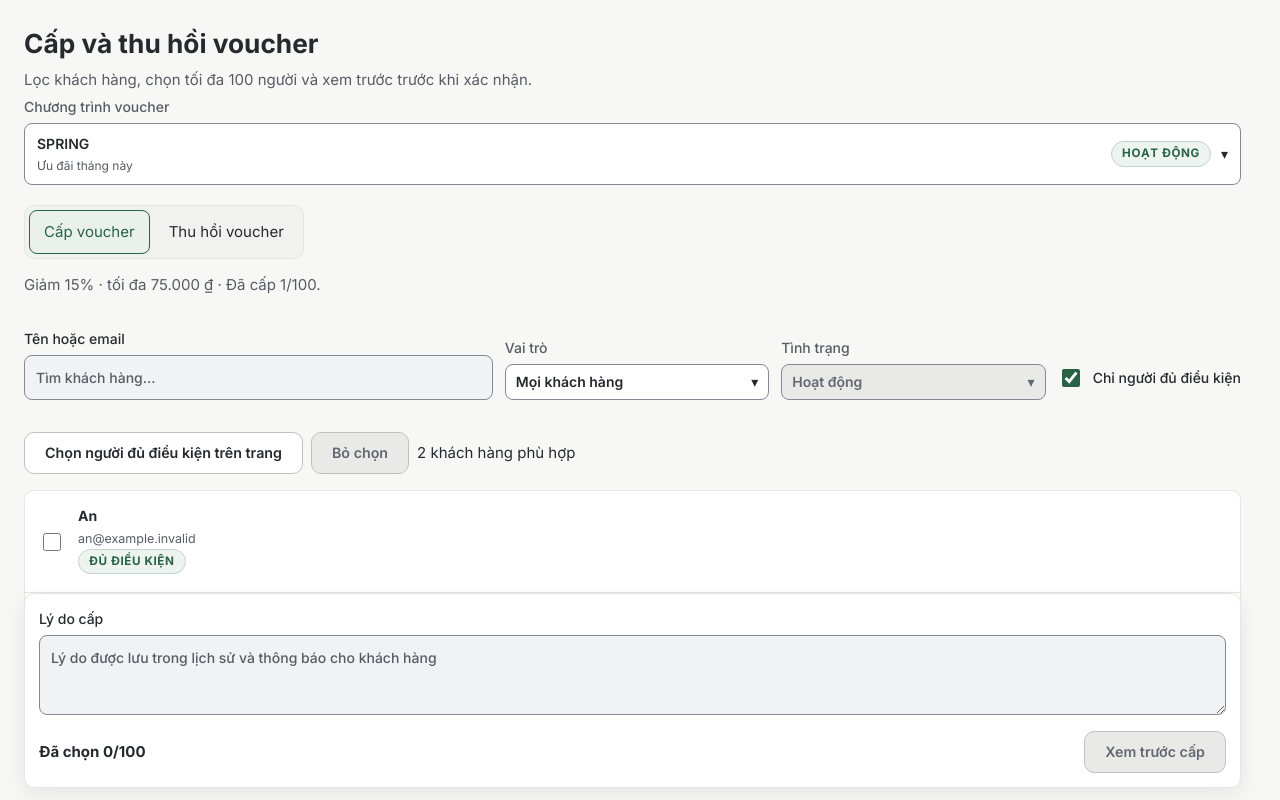
Test: KTV hàng loạt › retry xác nhận giữ command và payload ban đầu
Expected: the text "an@example.invalid" is shown, 78,531 -> 196,546
Click the checkbox named "Chọn An · an@example.invalid" at (52, 542), box 43,532 -> 61,550
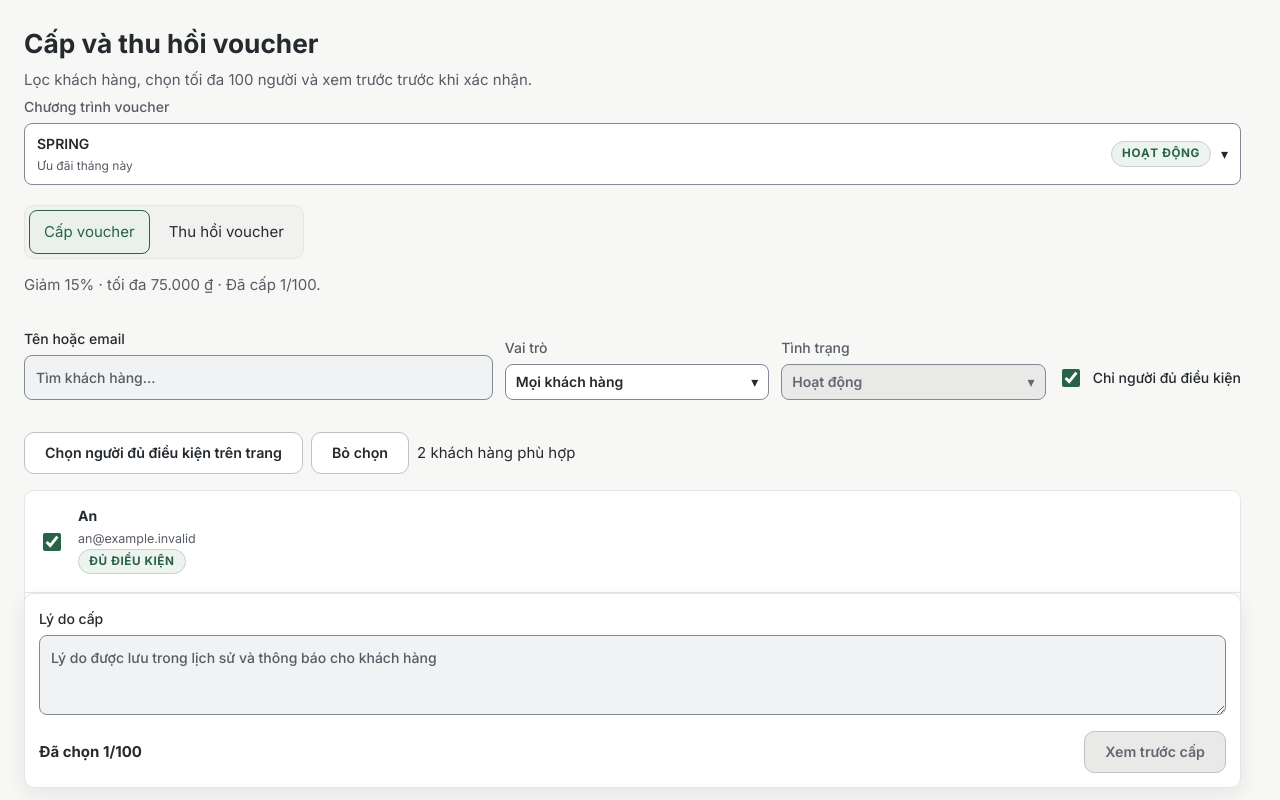
Type "QA" into the text box labelled "Lý do cấp" at (632, 675), box 39,635 -> 1226,715
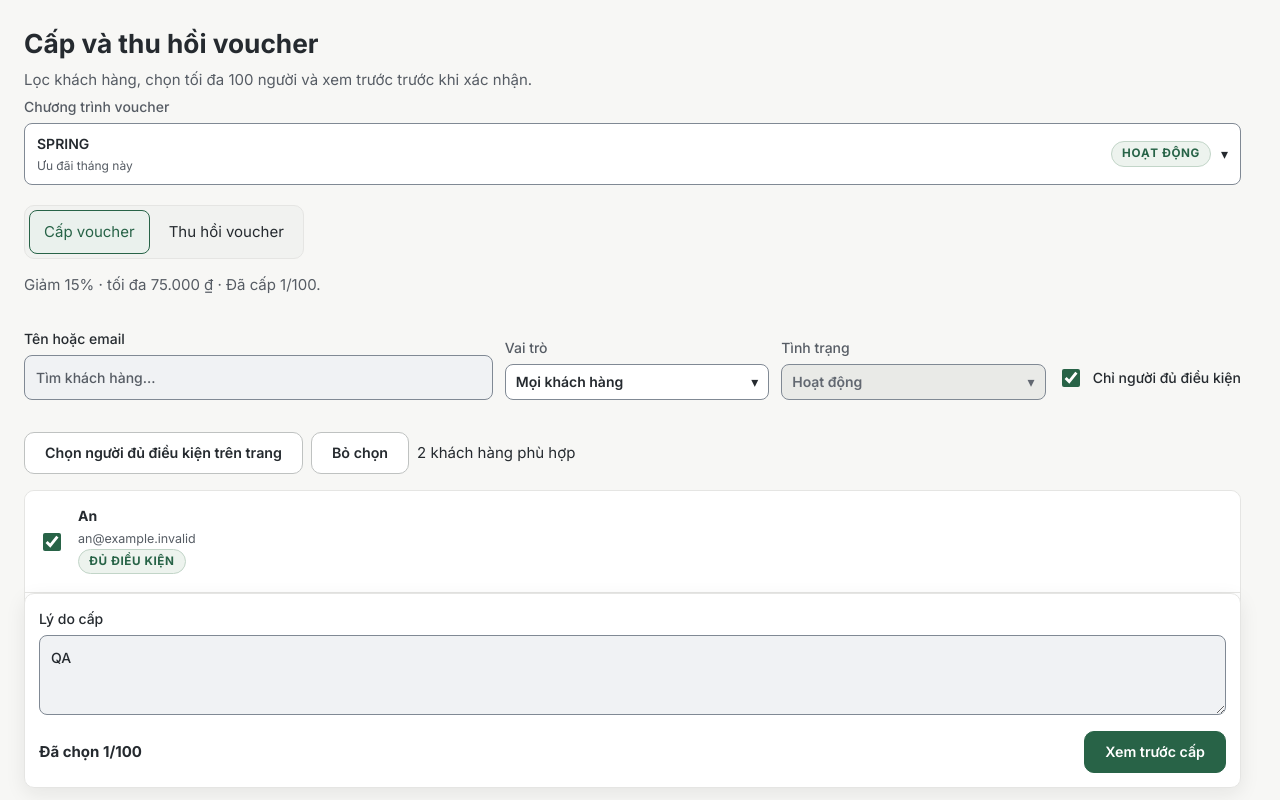
Click the button "Xem trước cấp" at (1155, 752), box 1084,731 -> 1226,773
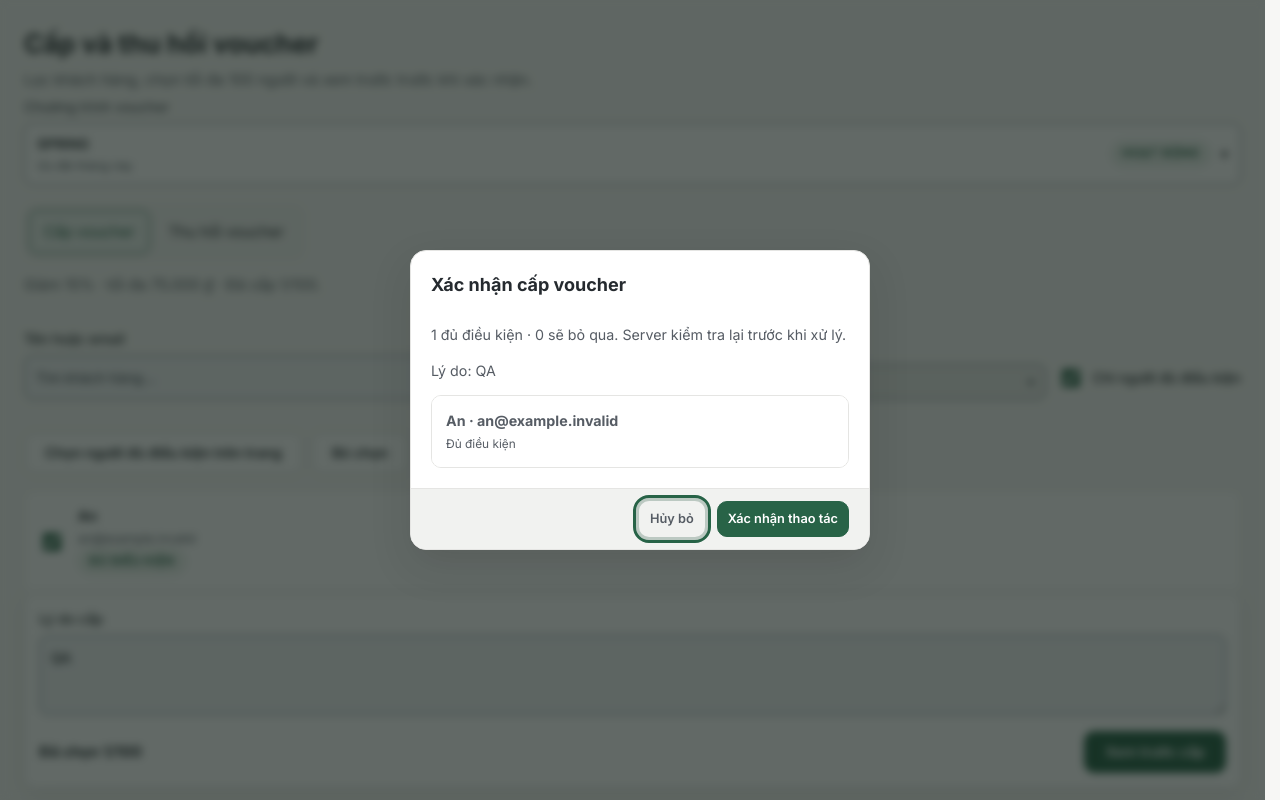
Expected: the dialog is shown
Click the button "Xác nhận thao tác" at (783, 519), box 717,501 -> 849,537
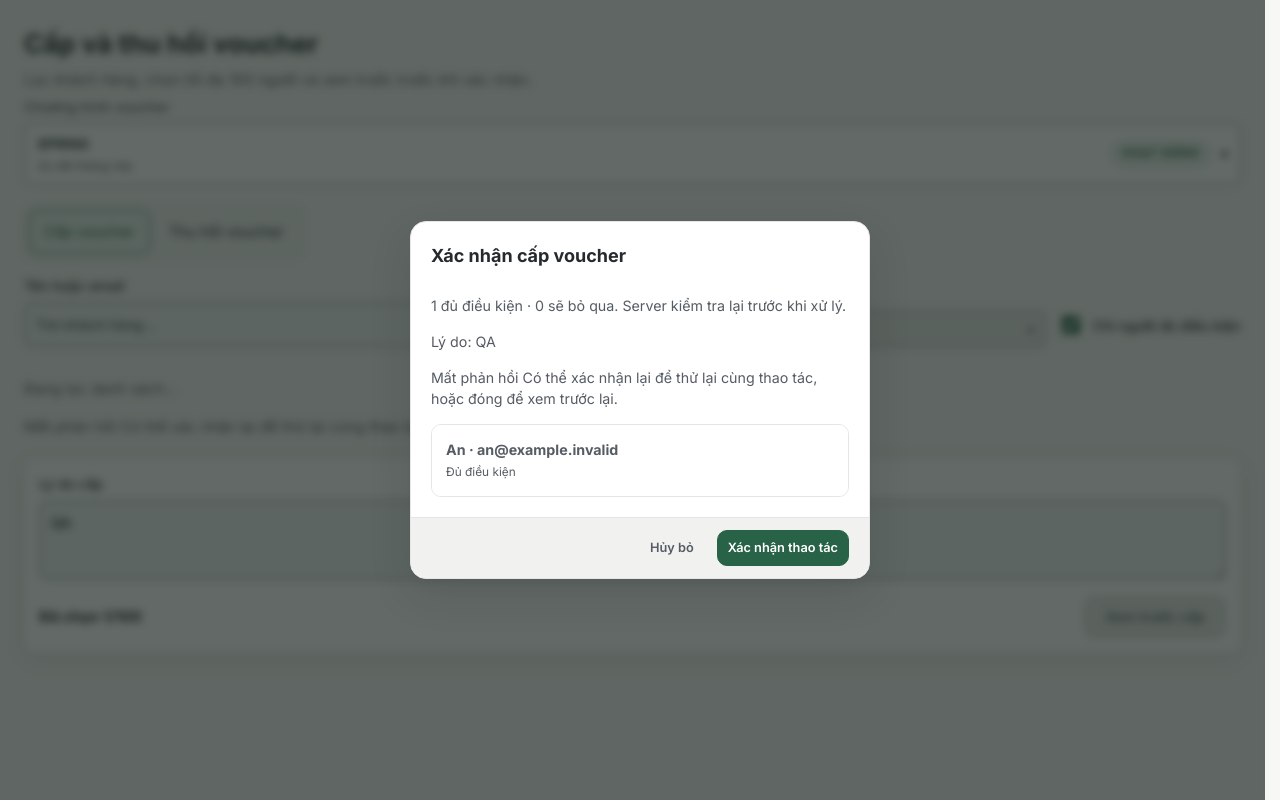
Expected: the message below "Lý do:" is shown, 431,367 -> 849,410
Click the button "Xác nhận thao tác" at (783, 548), box 717,530 -> 849,566
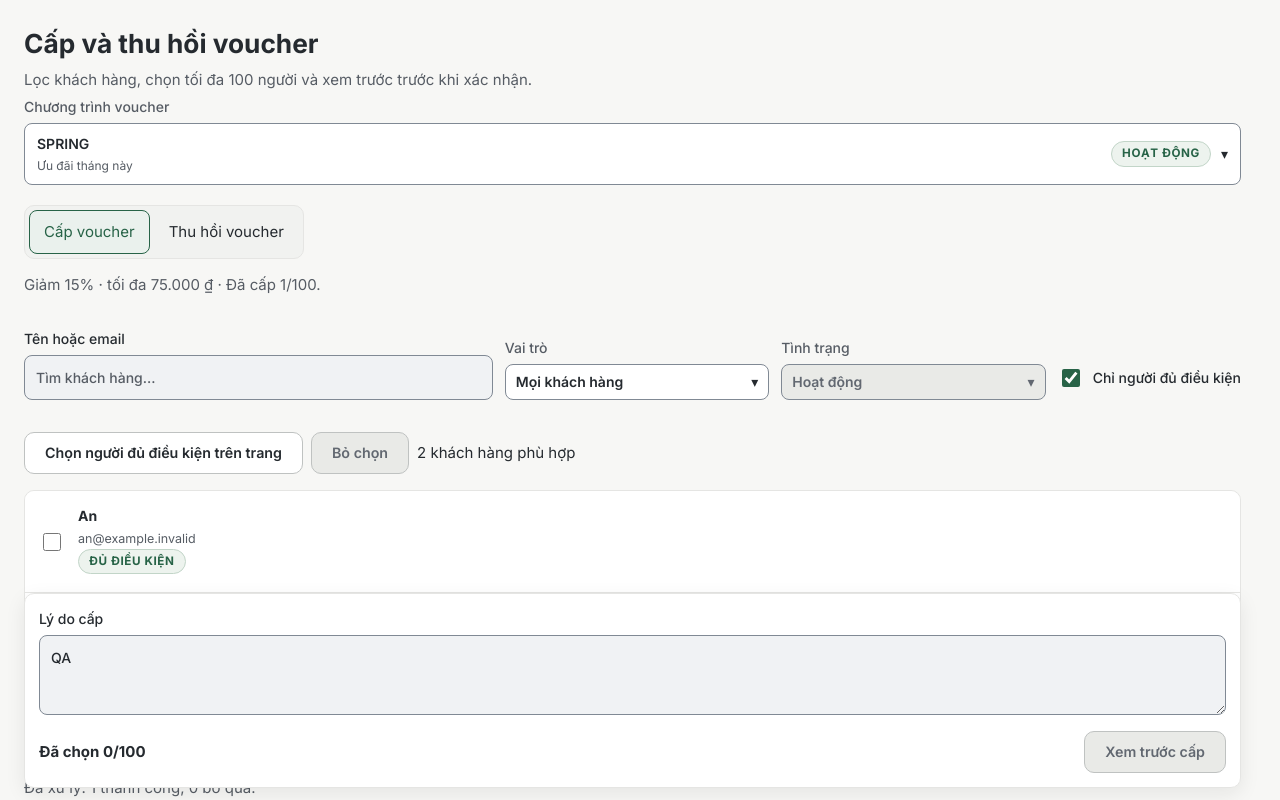
Expected: the text "Đã xử lý: 1 thành công, 0 bỏ qua." is shown, 24,778 -> 256,797
